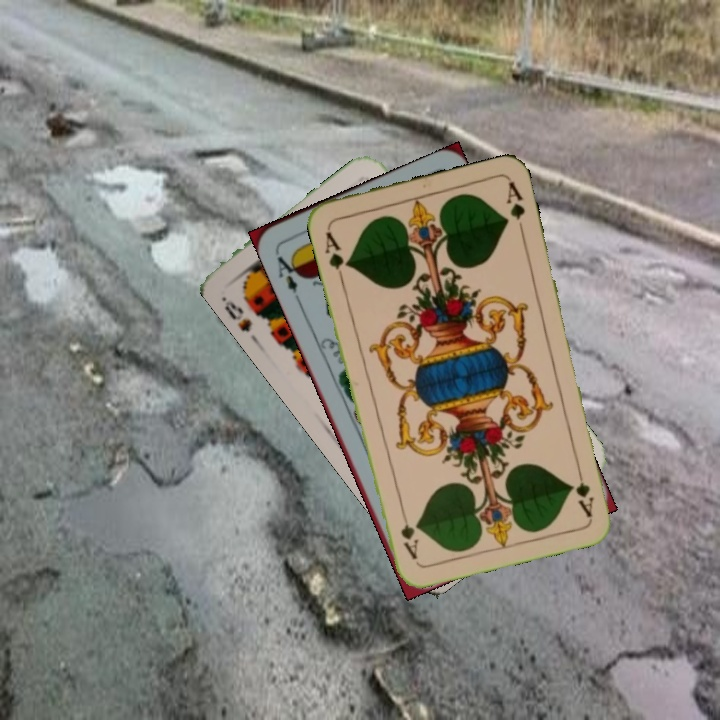EA: (271, 247, 306, 303)
GA: (320, 224, 352, 283), (571, 461, 597, 520)
S8: (217, 292, 255, 335)
